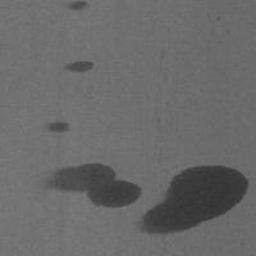Oil spot: (140, 164, 248, 236), (42, 163, 142, 207), (63, 60, 96, 73), (46, 122, 72, 134), (67, 1, 88, 12)
